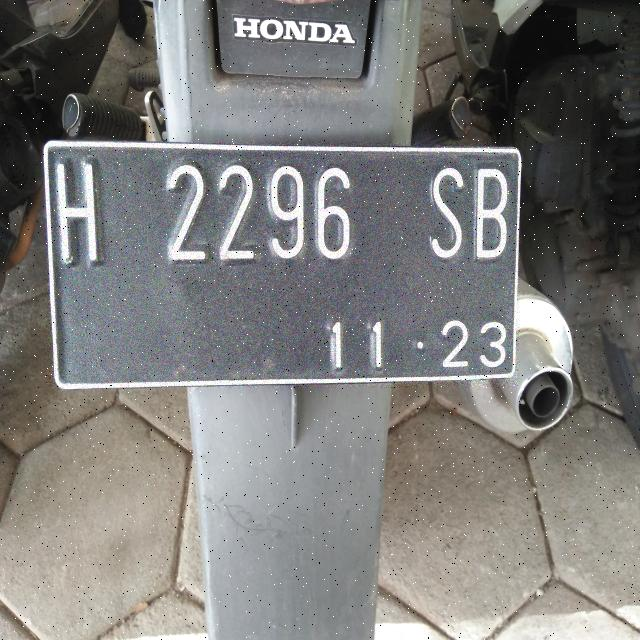plate: (46, 142, 519, 387)
